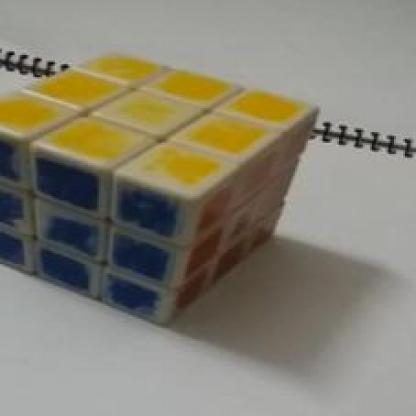cube: (0, 55, 326, 351)
